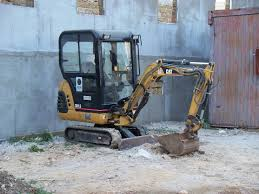excavator: (54, 26, 221, 160)
